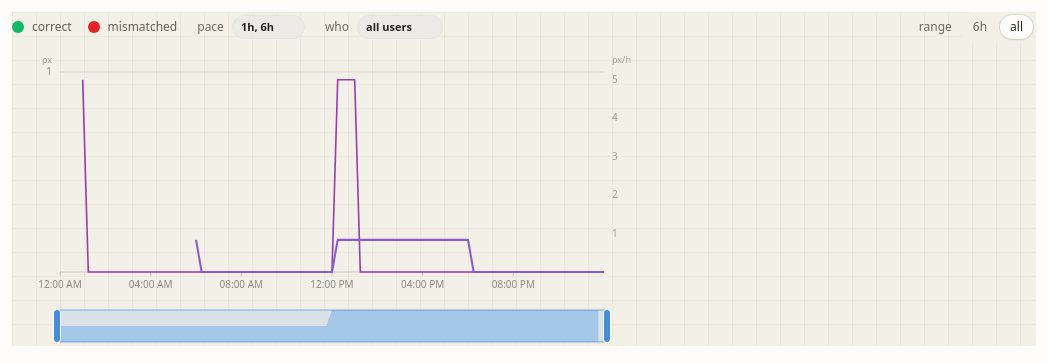
Test: painter lines › offers everyone’s pace but no painter lines without painters
Click the button "all users" at (400, 27), box [357,15,443,39]
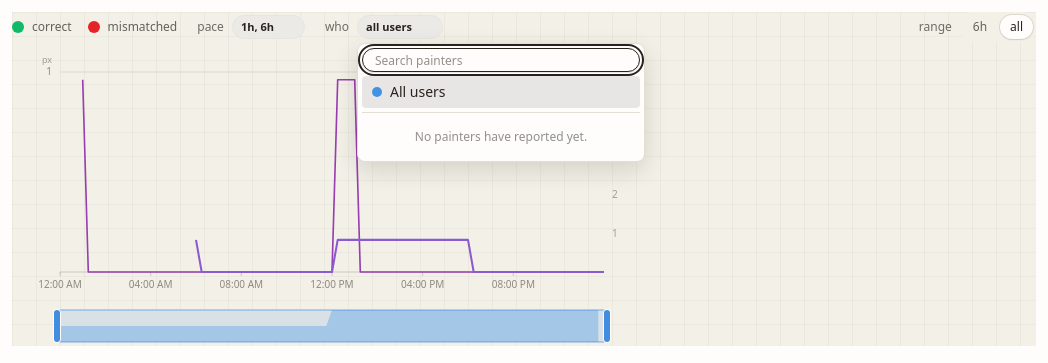
Expected: the option "All users" is shown, [362,76,640,108]
Expected: the text "No painters have reported yet" is shown, [415,128,587,145]
